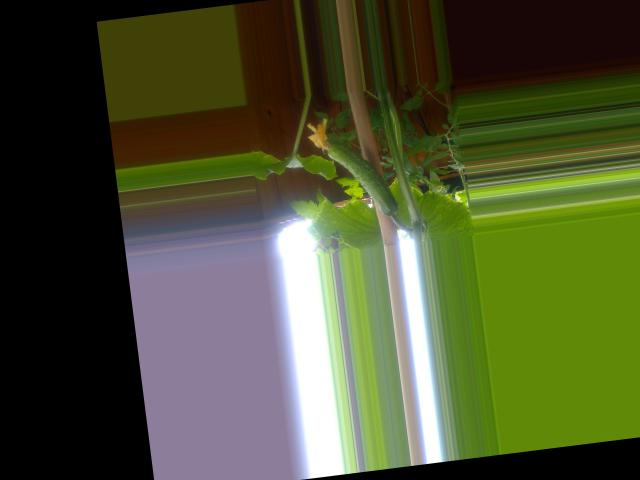cucumber: (304, 110, 398, 224)
